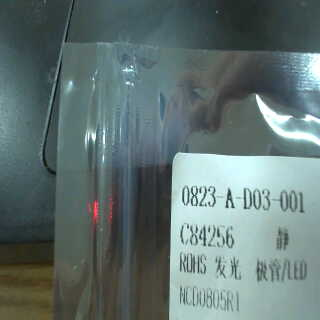LED: (206, 251, 320, 289)
